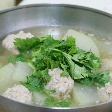dongguawanzi: (1, 24, 112, 107)
